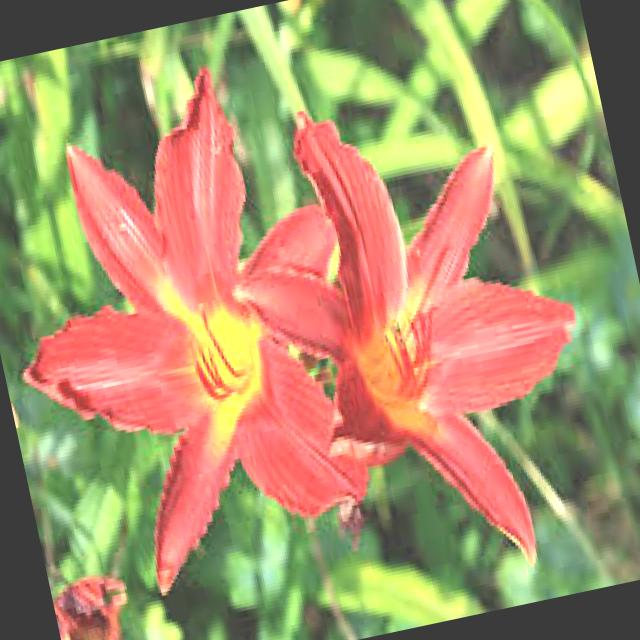lily: (0, 89, 392, 640)
